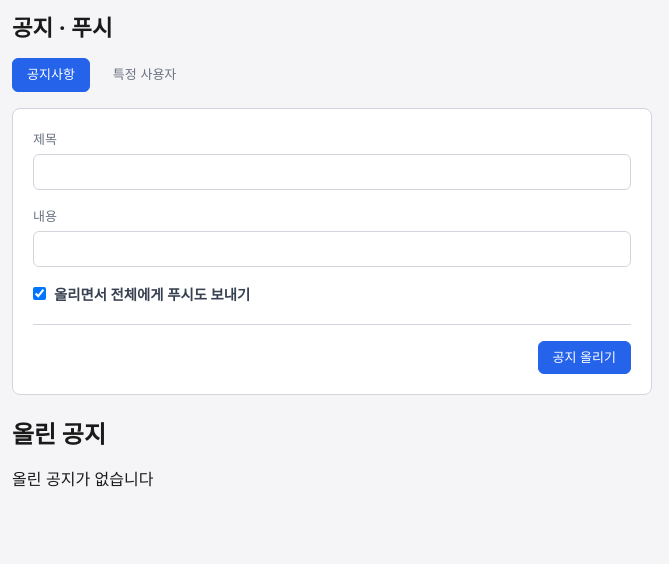
Scenario: PushPage › shows a token-not-registered message when sendToUser fails with 404
Click the button "특정 사용자" at coordinates (145, 75), box x1=98 y1=58 x2=191 y2=92
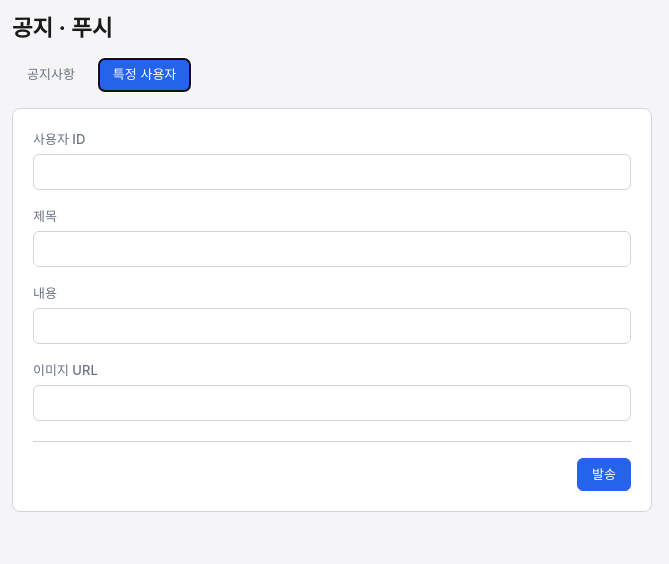
Type "user-1" into the field labelled "사용자 ID" at coordinates (332, 172), box x1=33 y1=154 x2=631 y2=190
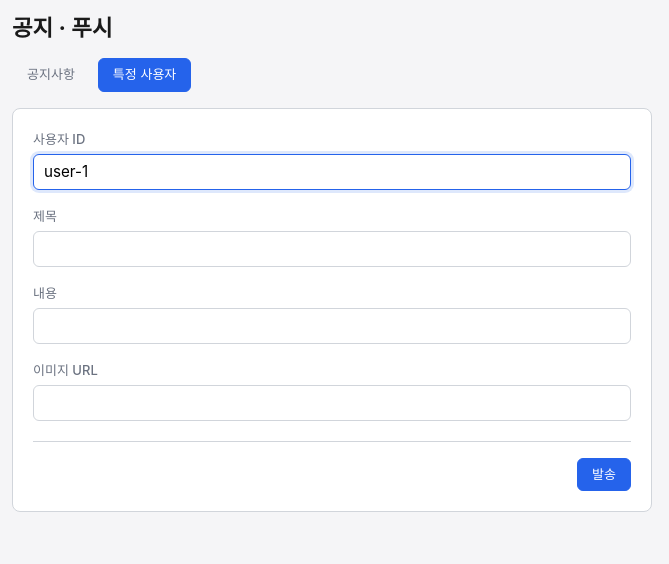
Type "제목" into the field labelled "제목" at coordinates (332, 249), box x1=33 y1=231 x2=631 y2=267
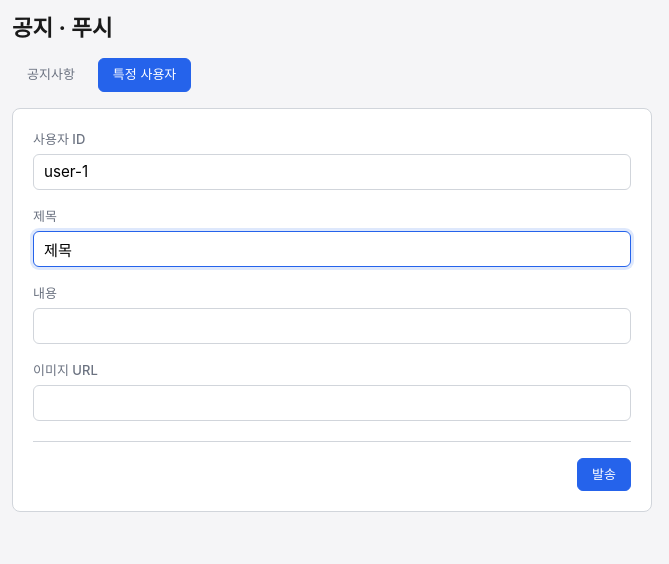
Type "내용" into the field labelled "내용" at coordinates (332, 326), box x1=33 y1=308 x2=631 y2=344
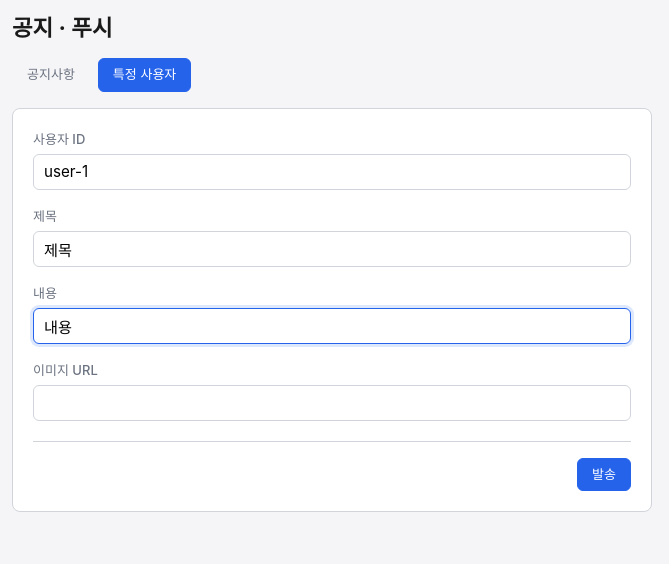
Click the button "발송" at coordinates (604, 474), box x1=577 y1=458 x2=631 y2=491
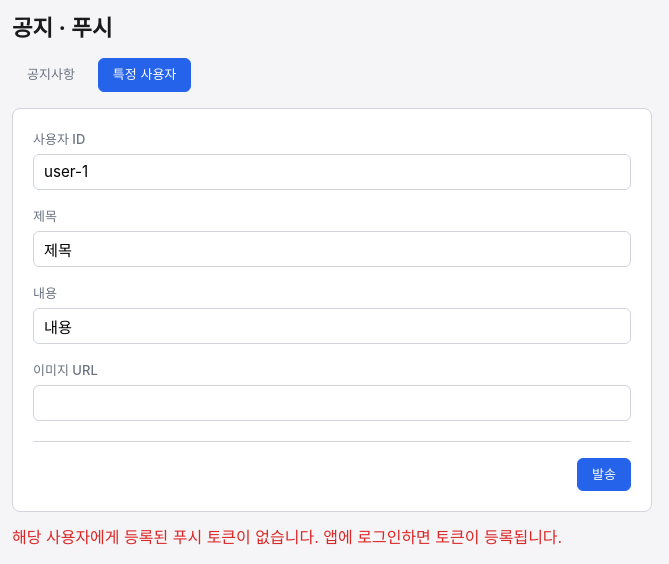
Now the text "해당 사용자에게 등록된 푸시 토큰이 없습니다. 앱에 로그인하면 토큰이 등록됩니다." is shown, box x1=12 y1=527 x2=562 y2=547
